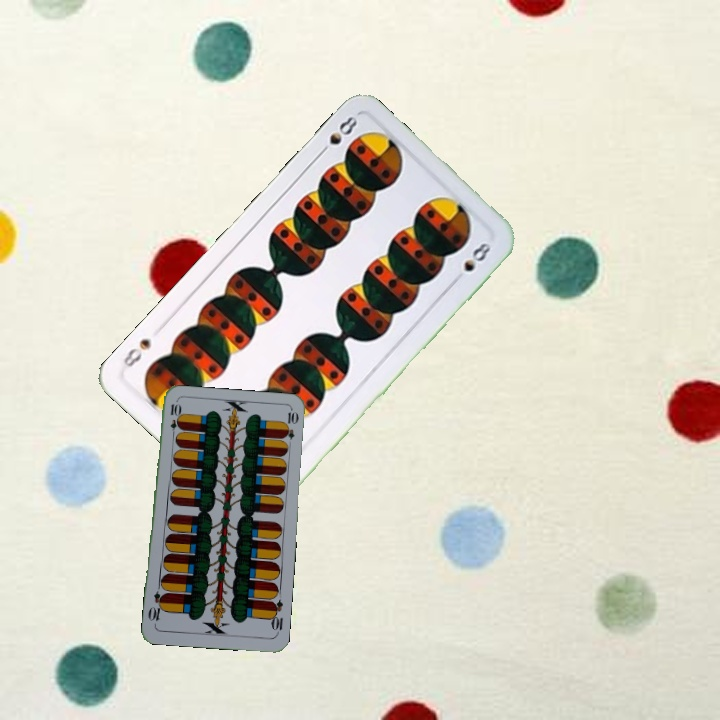E10: (266, 596, 285, 637), (166, 400, 181, 440)
S8: (313, 112, 361, 159)
